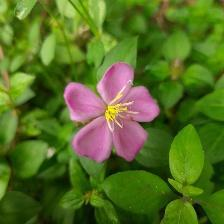malabar melastome: (64, 62, 163, 165)
